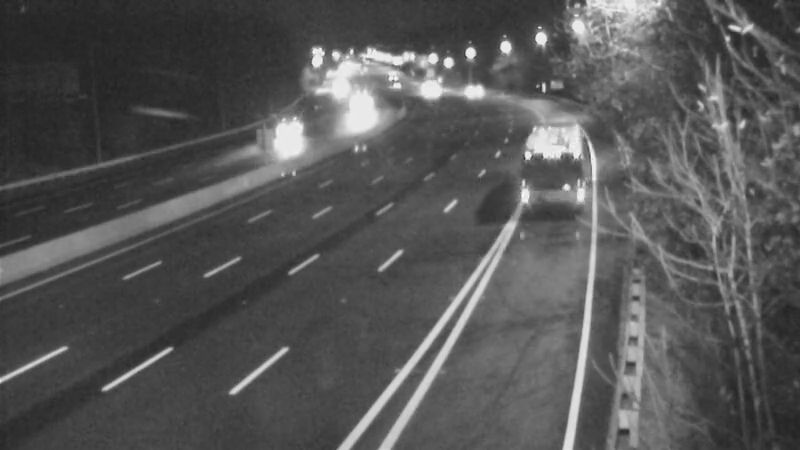vehicle: (367, 50, 417, 100), (403, 55, 453, 105), (400, 65, 450, 115), (440, 62, 490, 112), (401, 62, 451, 112), (521, 124, 571, 174), (261, 99, 311, 149), (333, 78, 383, 128), (311, 59, 361, 109)
